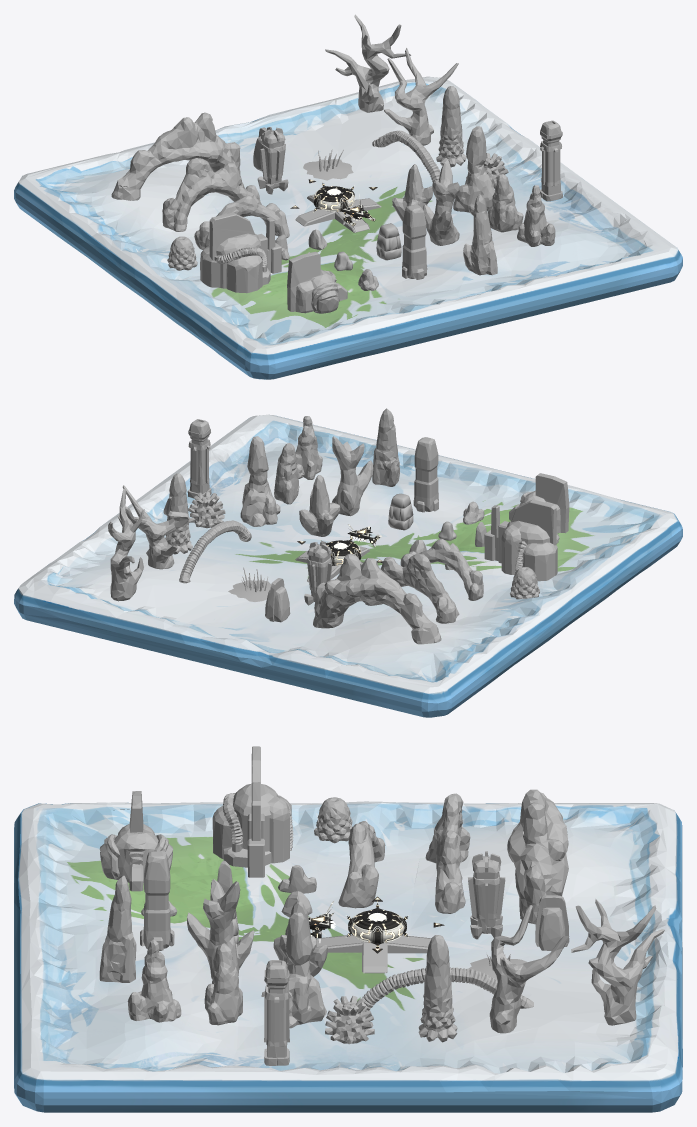
Rendered from core_terrain.fbx.
3 renders of one model, top to bottom at view 1: azimuth 30°, elevation 25°; view 2: azimuth 150°, elevation 25°; view 3: azimuth 270°, elevation 25°, orthographic. The views are drawn at different scales.
Visible parts, largest first — view 1: terrain:terrain, terrain:component_mchn5, terrain:overhead_rock_large, terrain:overhead_rock_medium, terrain:component_mchn4, terrain:tree, terrain:tree2, terrain:pillar_rock2, terrain:spike_pillar, terrain:pillar_rock, terrain:component_mchn3, terrain:plant_tall (+11 smaller); view 2: terrain:terrain, terrain:overhead_rock_large, terrain:component_mchn5, terrain:overhead_rock_medium, terrain:pillar_rock2, terrain:tree, terrain:spike_pillar, terrain:tree2, terrain:component_mchn3, terrain:pillar_rock, terrain:overhead_rock_small, terrain:pillar_mchn2 (+12 smaller); view 3: terrain:terrain, terrain:component_mchn5, terrain:overhead_rock_large, terrain:tree, terrain:overhead_rock_medium, terrain:tree2, terrain:component_mchn4, terrain:pillar_rock2, terrain:spike_pillar, terrain:plant_tall, terrain:pillar_rock, terrain:overhead_rock_small (+12 smaller).
Part boxes in pixels (bbox=[...]): terrain:terrain: bbox=[14, 76, 682, 379]; terrain:component_mchn5: bbox=[200, 212, 281, 293]; terrain:overhead_rock_large: bbox=[111, 112, 240, 200]; terrain:overhead_rock_medium: bbox=[162, 158, 261, 231]; terrain:component_mchn4: bbox=[287, 251, 347, 313]; terrain:tree: bbox=[325, 14, 410, 112]; terrain:tree2: bbox=[384, 48, 458, 145]; terrain:pillar_rock2: bbox=[453, 126, 494, 215]; terrain:spike_pillar: bbox=[423, 159, 459, 245]; terrain:pillar_rock: bbox=[463, 194, 497, 275]; terrain:component_mchn3: bbox=[402, 204, 427, 279]; terrain:plant_tall: bbox=[436, 86, 466, 167]; terrain:terrain: bbox=[14, 414, 682, 717]; terrain:overhead_rock_large: bbox=[313, 553, 441, 644]; terrain:component_mchn5: bbox=[484, 499, 559, 581]; terrain:overhead_rock_medium: bbox=[363, 553, 459, 623]; terrain:pillar_rock2: bbox=[240, 436, 280, 526]; terrain:tree: bbox=[108, 488, 144, 601]; terrain:spike_pillar: bbox=[332, 436, 373, 516]; terrain:tree2: bbox=[122, 485, 189, 569]; terrain:component_mchn3: bbox=[413, 437, 438, 512]; terrain:pillar_rock: bbox=[372, 408, 399, 486]; terrain:overhead_rock_small: bbox=[400, 538, 483, 600]; terrain:pillar_mchn2: bbox=[187, 419, 211, 498]; terrain:terrain: bbox=[14, 801, 682, 1112]; terrain:component_mchn5: bbox=[212, 746, 293, 877]; terrain:overhead_rock_large: bbox=[507, 789, 568, 924]; terrain:tree: bbox=[571, 899, 664, 1025]; terrain:overhead_rock_medium: bbox=[425, 793, 470, 913]; terrain:tree2: bbox=[489, 905, 569, 1033]; terrain:component_mchn4: bbox=[99, 791, 173, 891]; terrain:pillar_rock2: bbox=[286, 912, 326, 1028]; terrain:spike_pillar: bbox=[187, 879, 254, 979]; terrain:plant_tall: bbox=[418, 935, 457, 1042]; terrain:pillar_rock: bbox=[99, 875, 136, 982]; terrain:overhead_rock_small: bbox=[338, 821, 385, 908].
Size of the model in its own units: 112 by 29.78 by 112.
